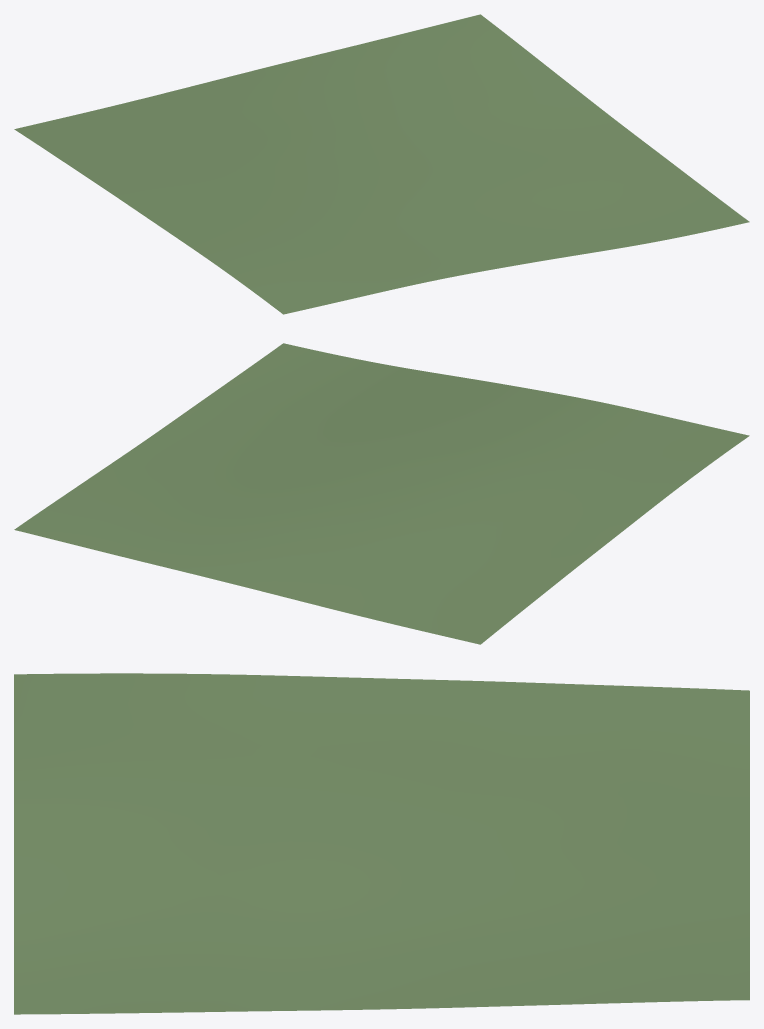
The model's file is floor_001_chunk_x-03_z+11_lod1.glb.
3 views of the same model, one above another, from view 1: azimuth 30°, elevation 25°; view 2: azimuth 150°, elevation 25°; view 3: azimuth 270°, elevation 25° (orthographic). The views are drawn at different scales.
Visible parts, largest first — view 1: floor_001_chunk_x-03_z+11_lod1; view 2: floor_001_chunk_x-03_z+11_lod1; view 3: floor_001_chunk_x-03_z+11_lod1.
Part boxes in pixels (<box>): floor_001_chunk_x-03_z+11_lod1: <box>14,14,749,314</box>; floor_001_chunk_x-03_z+11_lod1: <box>14,343,749,644</box>; floor_001_chunk_x-03_z+11_lod1: <box>14,673,749,1014</box>.
Size of the model in its own units: 256 by 11.53 by 256.
